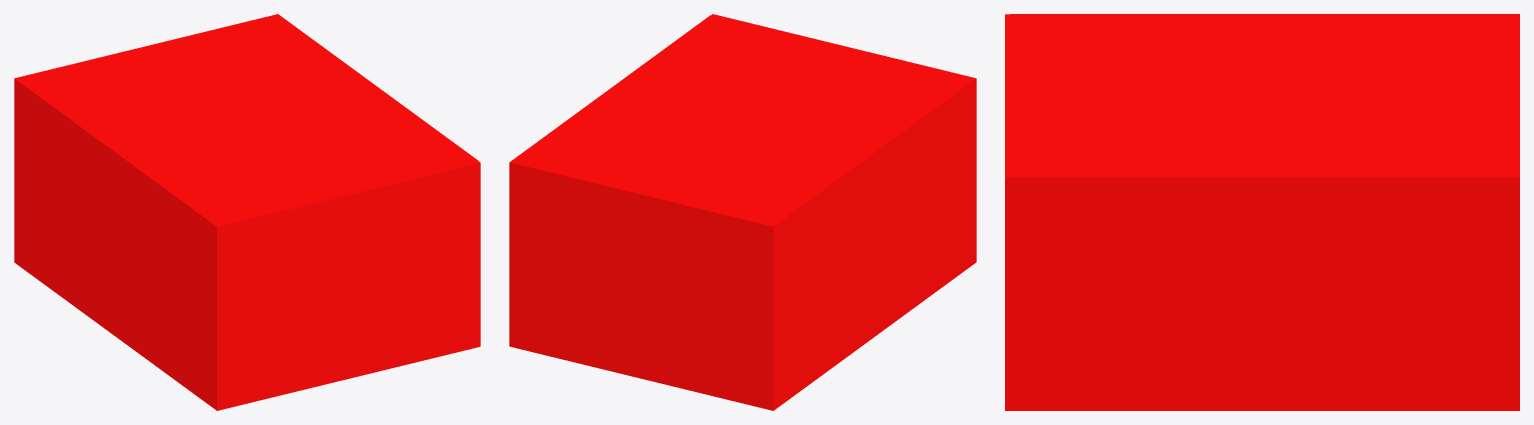
Rendered from simple_model2.glb.
The picture shows the model from 3 angles, left to right: view 1: azimuth 30°, elevation 25°; view 2: azimuth 150°, elevation 25°; view 3: azimuth 270°, elevation 25°; orthographic projection. The views are drawn at different scales.
Bounding box in the file's own units: 12.01 × 8.01 × 16.
